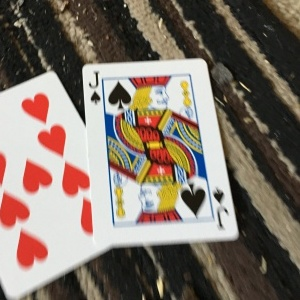card: (80, 56, 240, 244)
